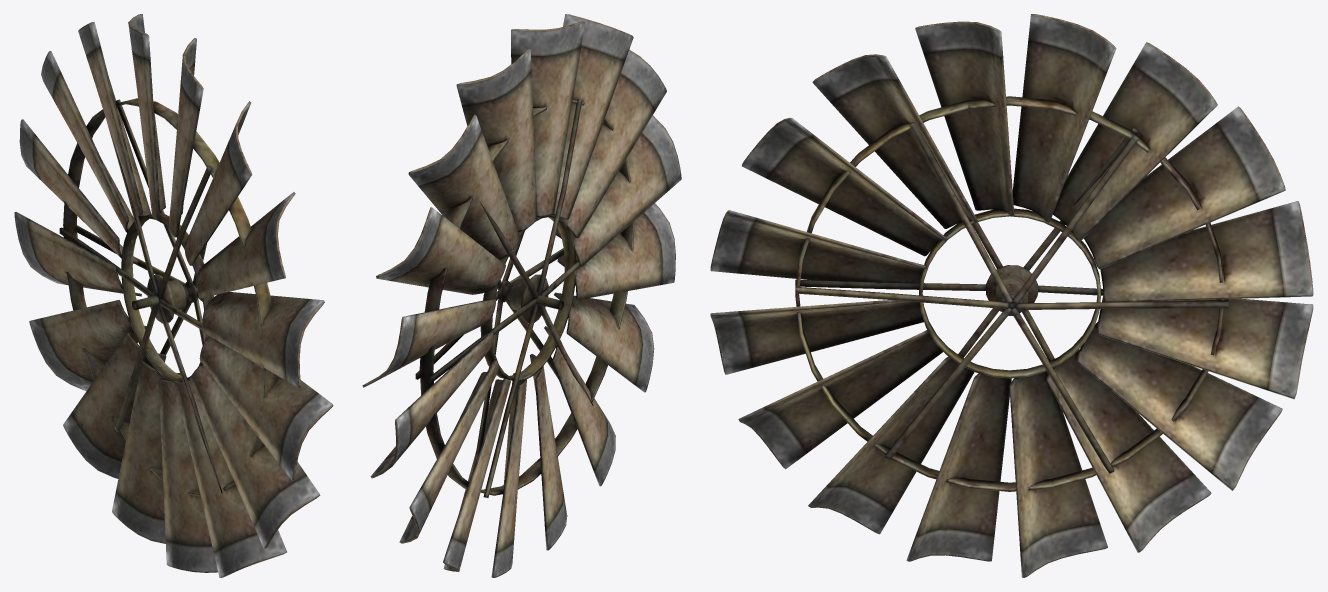
The model's file is blades.gltf.
The picture shows the model from 3 angles, left to right: view 1: azimuth 30°, elevation 25°; view 2: azimuth 150°, elevation 25°; view 3: azimuth 270°, elevation 25°; orthographic projection. The views are drawn at different scales.
Visible parts, largest first — view 1: Cube.004_0; view 2: Cube.004_0; view 3: Cube.004_0.
Boxes of the visible parts, x1,y1,x2,y2 form: Cube.004_0: [14, 14, 333, 577]; Cube.004_0: [362, 14, 681, 577]; Cube.004_0: [710, 14, 1313, 577].
Bounding box in the file's own units: 0.476 × 3.89 × 3.89.
Materials: 1 (1 with a texture image).
